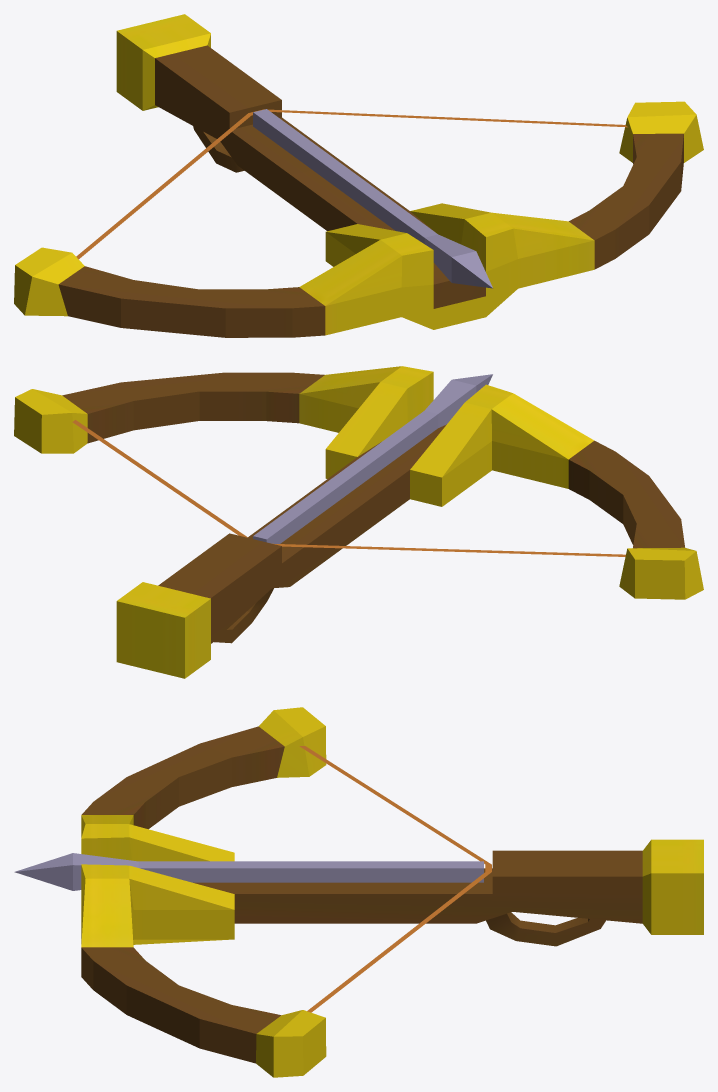
The model's file is CrossBow_enemy.fbx.
3 views of the same model, one above another, from view 1: azimuth 30°, elevation 25°; view 2: azimuth 150°, elevation 25°; view 3: azimuth 270°, elevation 25° (orthographic).
Visible parts, largest first — view 1: balestra, freccia; view 2: balestra, freccia; view 3: balestra, freccia.
Boxes of the visible parts, x1=… form: balestra: x1=14, y1=14, x2=703, y2=337; freccia: x1=253, y1=109, x2=492, y2=288; balestra: x1=14, y1=366, x2=703, y2=678; freccia: x1=253, y1=374, x2=492, y2=543; balestra: x1=81, y1=707, x2=703, y2=1077; freccia: x1=14, y1=853, x2=483, y2=890.
Bounding box in the file's own units: 59.8 × 7.62 × 52.24.
Materials: 1 (1 with a texture image).
